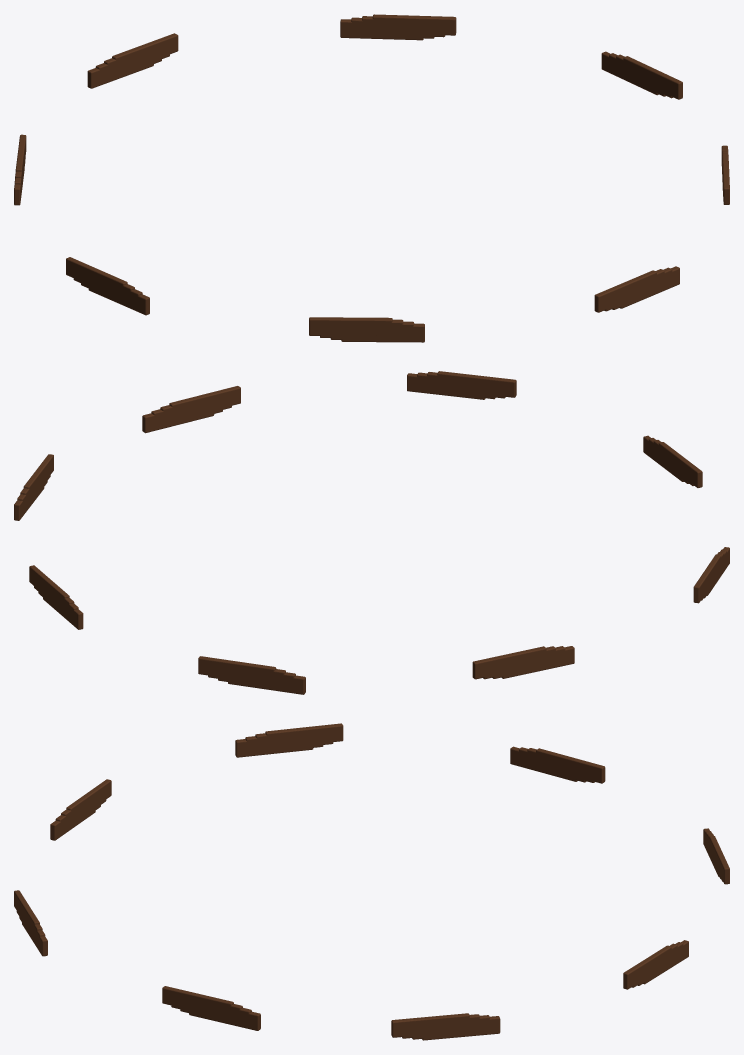
File: ev_core_r11b_coils.glb
3 views of the same model, one above another, from view 1: azimuth 30°, elevation 25°; view 2: azimuth 150°, elevation 25°; view 3: azimuth 270°, elevation 25° (orthographic). The views are drawn at different scales.
Parts seen in each view (by area): view 1: Coil_1_0, Coil_5_0, Coil_0_0, Coil_2_0, Coil_2_3, Coil_4_1, Coil_6_1, Coil_2_1, Coil_0_1, Coil_5_1, Coil_5_3, Coil_1_3 (+5 smaller); view 2: Coil_6_0, Coil_2_0, Coil_3_0, Coil_7_1, Coil_7_2, Coil_7_0, Coil_3_2, Coil_5_0, Coil_6_3, Coil_0_0, Coil_2_1, Coil_1_2 (+2 smaller); view 3: Coil_4_0, Coil_0_0, Coil_7_0, Coil_3_3, Coil_3_1, Coil_0_1, Coil_0_2, Coil_5_0, Coil_4_2, Coil_1_2, Coil_1_0, Coil_3_0 (+1 smaller).
Boxes of the visible parts, x1,y1,x2,y2 form: Coil_1_0: [372, 14, 456, 35]; Coil_5_0: [309, 317, 392, 335]; Coil_0_0: [623, 56, 682, 99]; Coil_2_0: [112, 33, 178, 71]; Coil_2_3: [87, 52, 153, 88]; Coil_4_1: [73, 265, 134, 303]; Coil_6_1: [604, 269, 664, 311]; Coil_2_1: [104, 41, 169, 77]; Coil_0_1: [616, 54, 673, 98]; Coil_5_1: [320, 319, 403, 337]; Coil_5_3: [341, 323, 424, 342]; Coil_1_3: [340, 19, 423, 40]; Coil_6_0: [437, 371, 516, 397]; Coil_2_0: [198, 656, 276, 684]; Coil_3_0: [472, 646, 546, 679]; Coil_7_1: [160, 393, 231, 424]; Coil_7_2: [151, 397, 222, 428]; Coil_7_0: [169, 386, 240, 417]; Coil_3_2: [492, 646, 565, 678]; Coil_5_0: [658, 442, 702, 487]; Coil_6_3: [407, 373, 485, 399]; Coil_0_0: [23, 454, 53, 501]; Coil_2_1: [208, 663, 285, 687]; Coil_1_2: [38, 579, 78, 622]; Coil_4_0: [265, 723, 343, 748]; Coil_0_0: [391, 1013, 469, 1037]; Coil_7_0: [162, 986, 233, 1018]; Coil_3_3: [510, 746, 577, 781]; Coil_3_1: [527, 748, 594, 782]; Coil_0_1: [402, 1014, 479, 1038]; Coil_0_2: [412, 1015, 489, 1039]; Coil_5_0: [66, 779, 111, 822]; Coil_4_2: [245, 732, 323, 753]; Coil_1_2: [637, 942, 683, 985]; Coil_1_0: [623, 945, 671, 989]; Coil_3_0: [536, 748, 605, 783].
Bounding box in the file's own units: 6.41 × 0.214 × 6.49.
